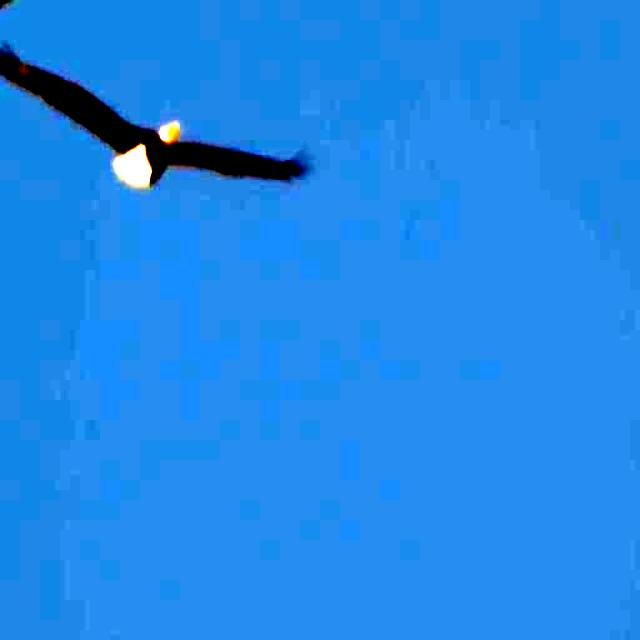airplane: (0, 34, 301, 206)
